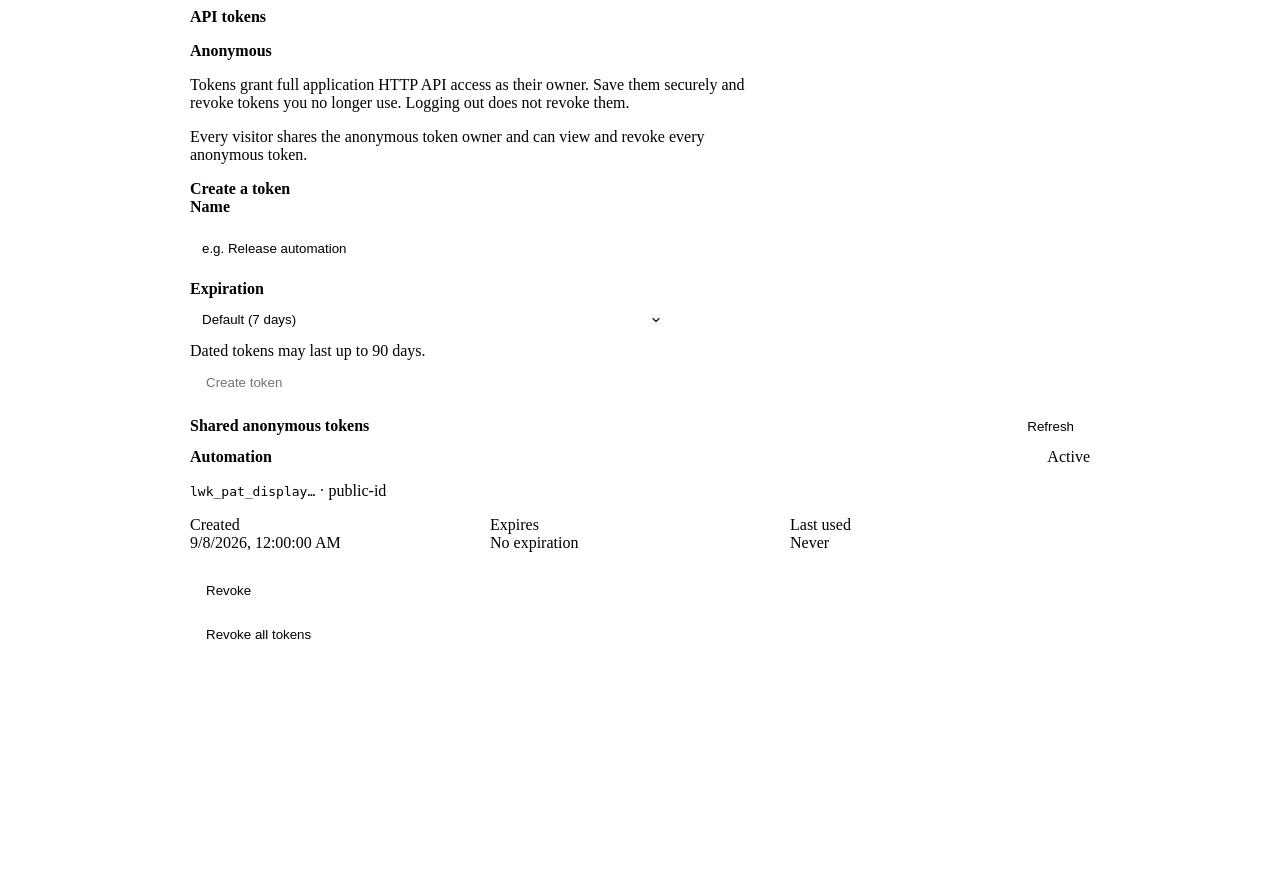
it: holds the new secret only for once-only display and gives copy success/failure feedback
In the field with id "token-name": point(442, 248) [190, 216, 694, 280], type "canary"
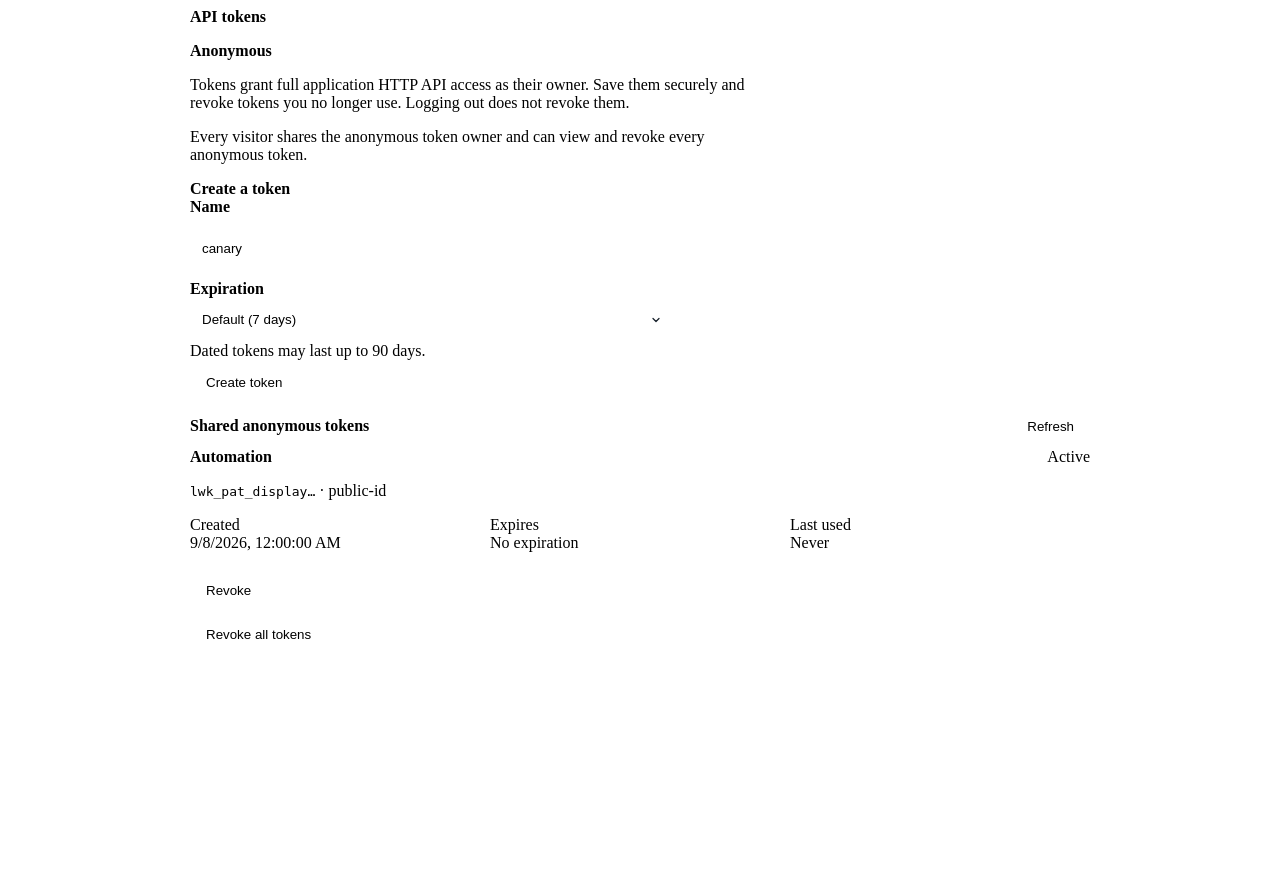
Submit the form, box [190, 198, 670, 404]
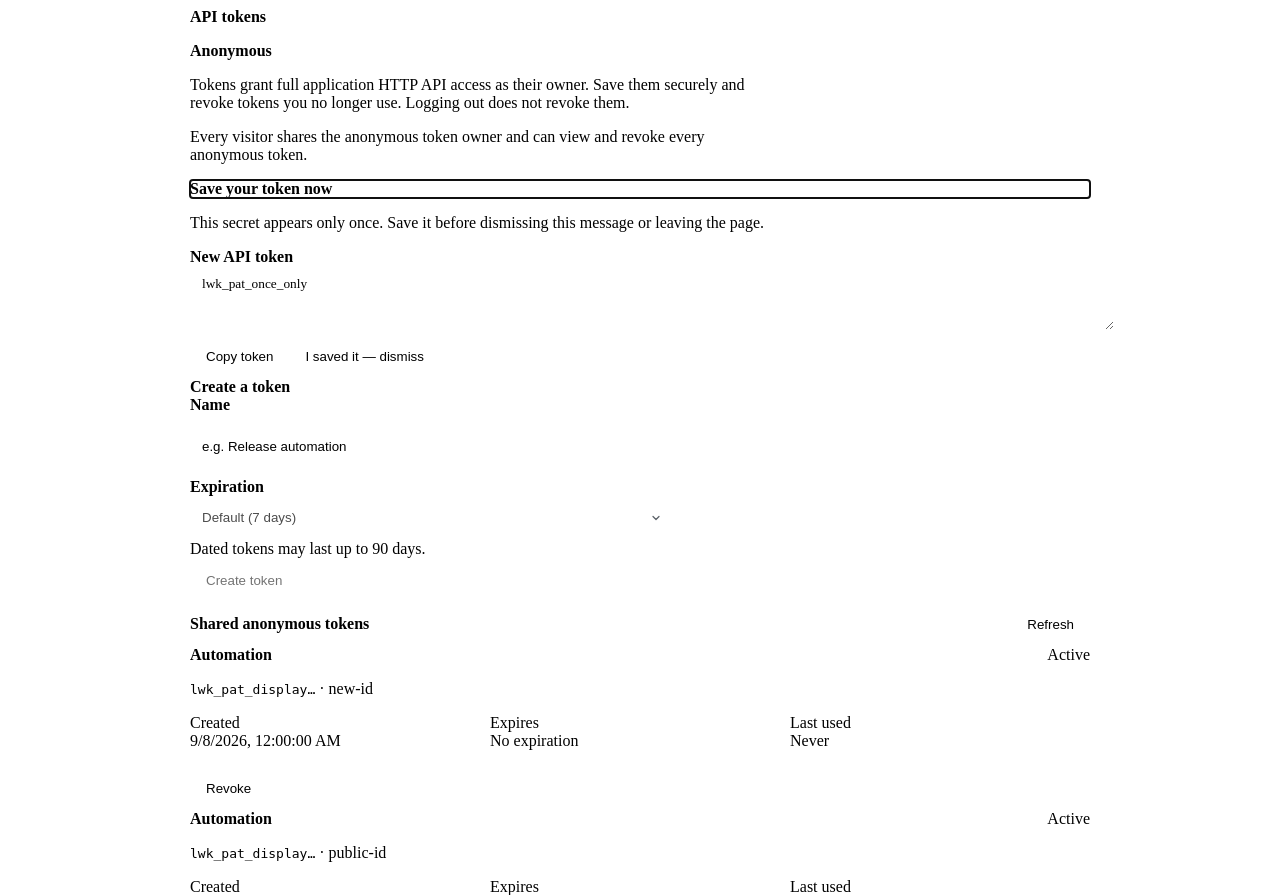
Expected: the text box with id "new-token" holds "lwk_pat_once_only", [190, 266, 1114, 330]
Click the button "Copy token": point(240, 356) [190, 334, 289, 378]
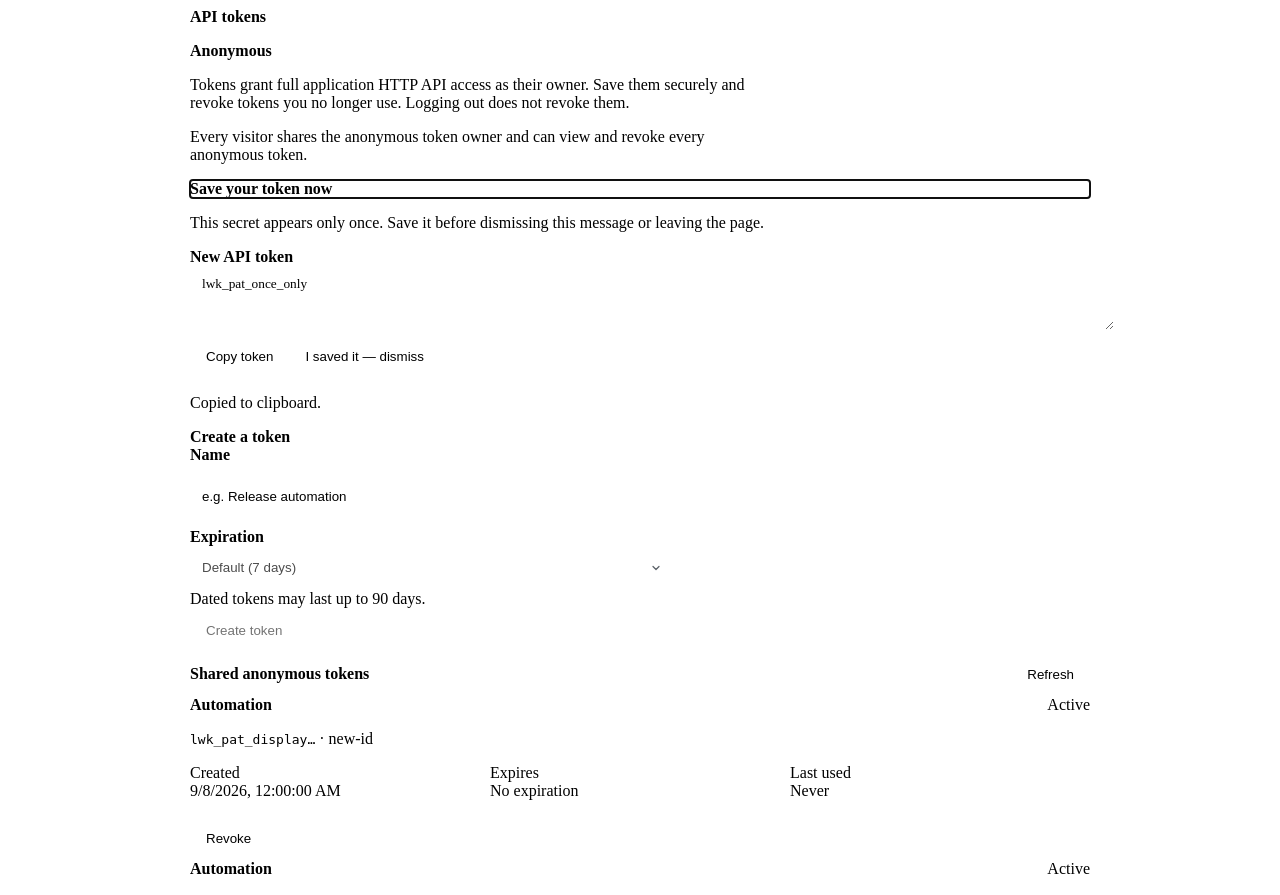
Expected: the text "Copied to clipboard" is shown, [190, 394, 321, 411]
Click the button "Copy token": point(240, 356) [190, 334, 289, 378]
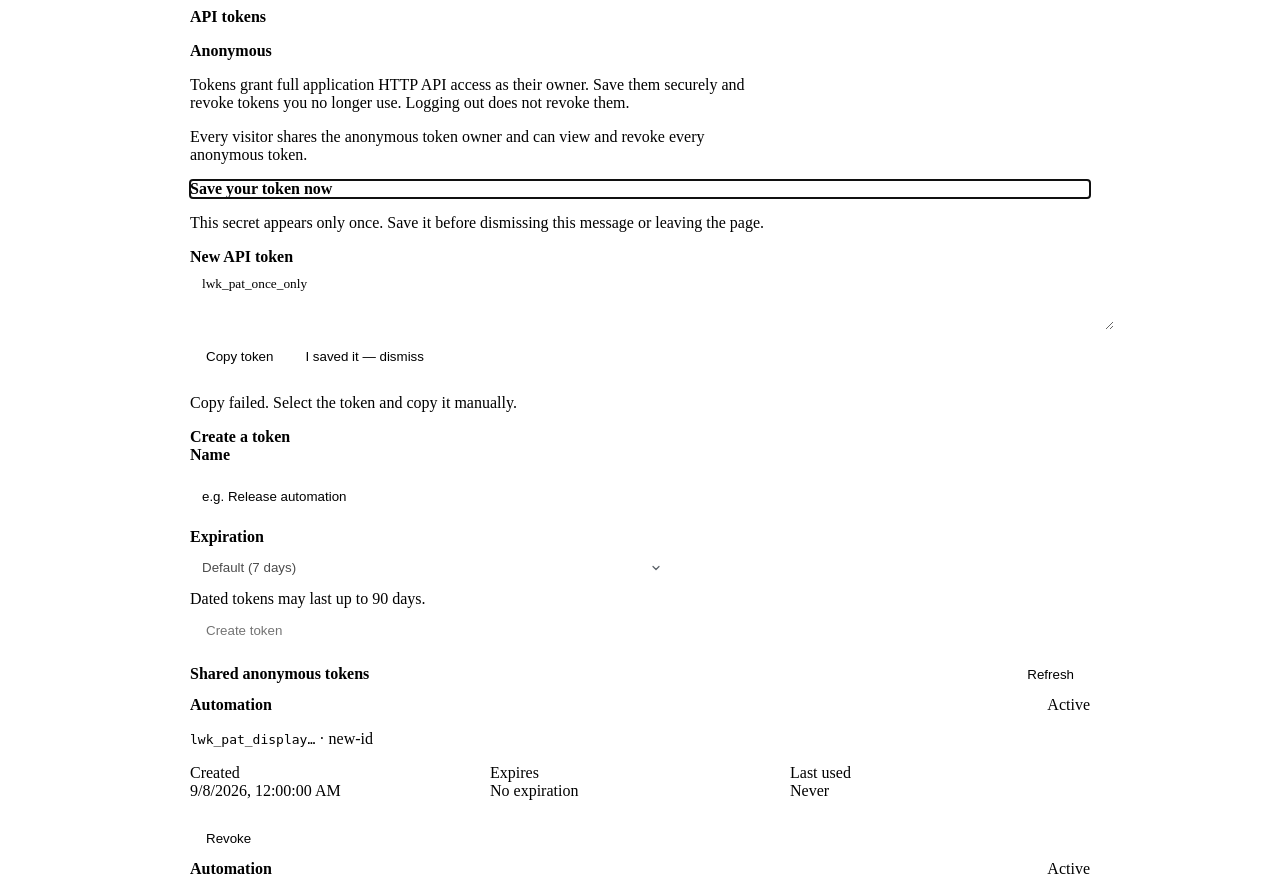
Expected: the text "Copy failed" is shown, [190, 394, 517, 411]
Click the button "I saved it — dismiss": point(365, 356) [289, 334, 440, 378]
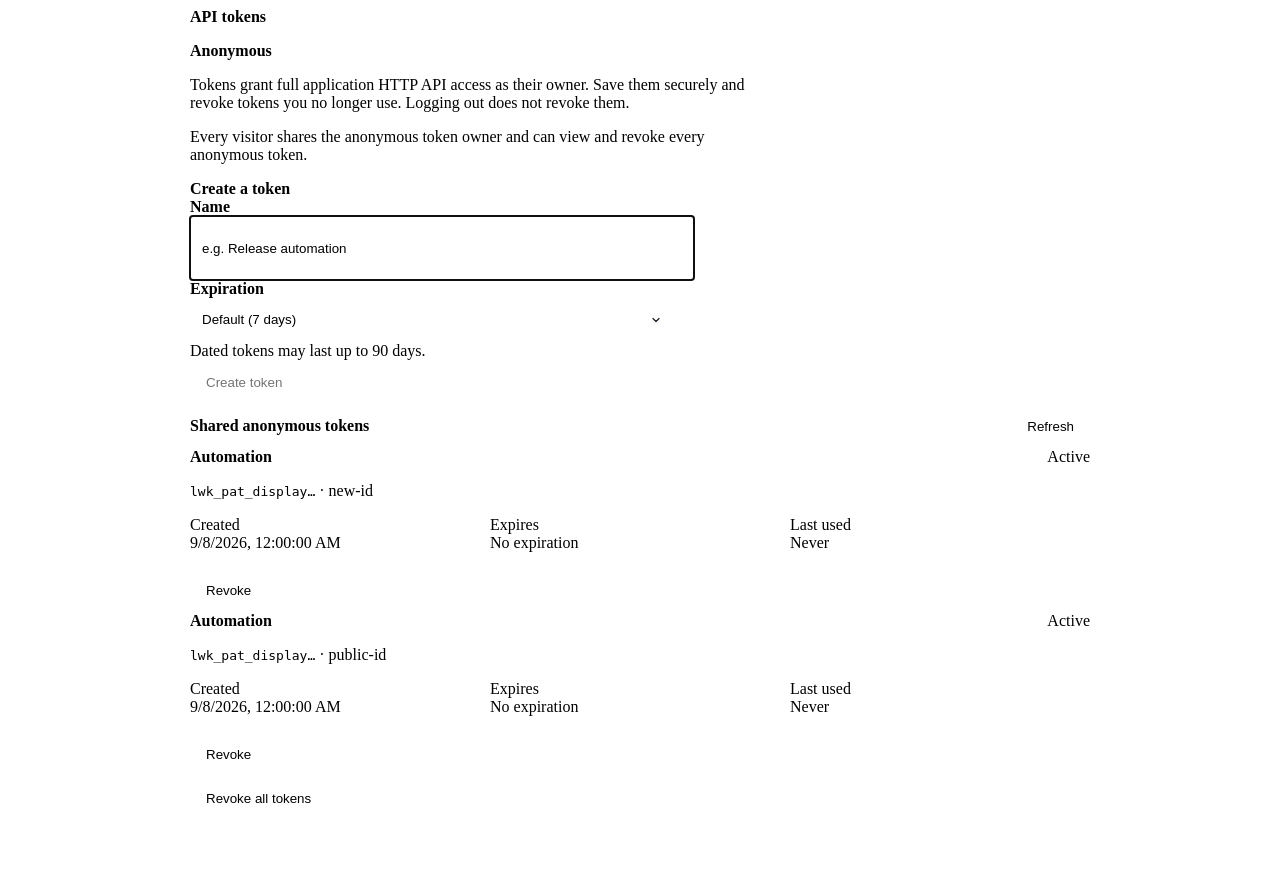
Expected: the label with id "new-token" is gone
